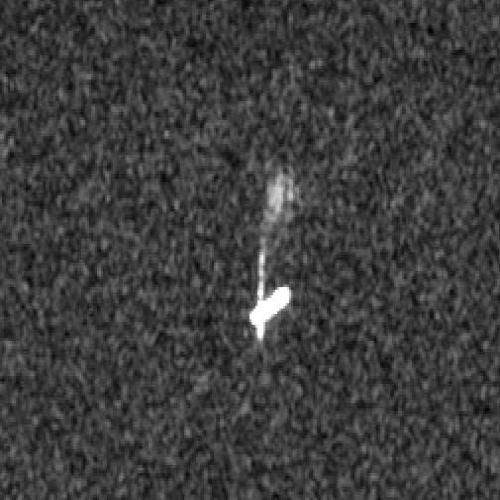ship: (249, 283, 293, 328)
